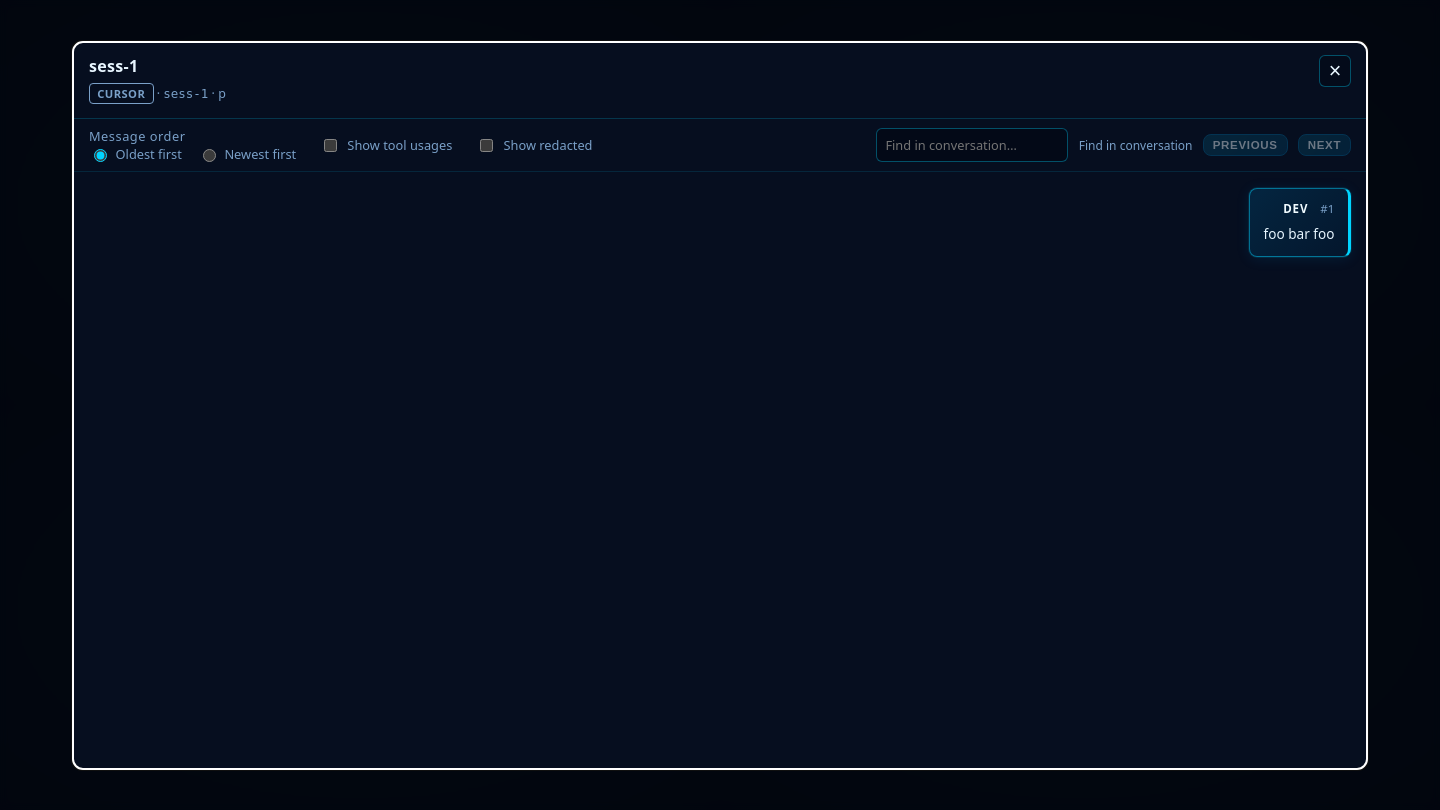
Test: ConversationModal in-modal find › wraps next and previous navigation
expect the text "foo bar foo" is shown: met, box [1264, 224, 1334, 244]
Type "foo" into the search field labelled "Find in conversation" at (972, 145), box [876, 128, 1068, 162]
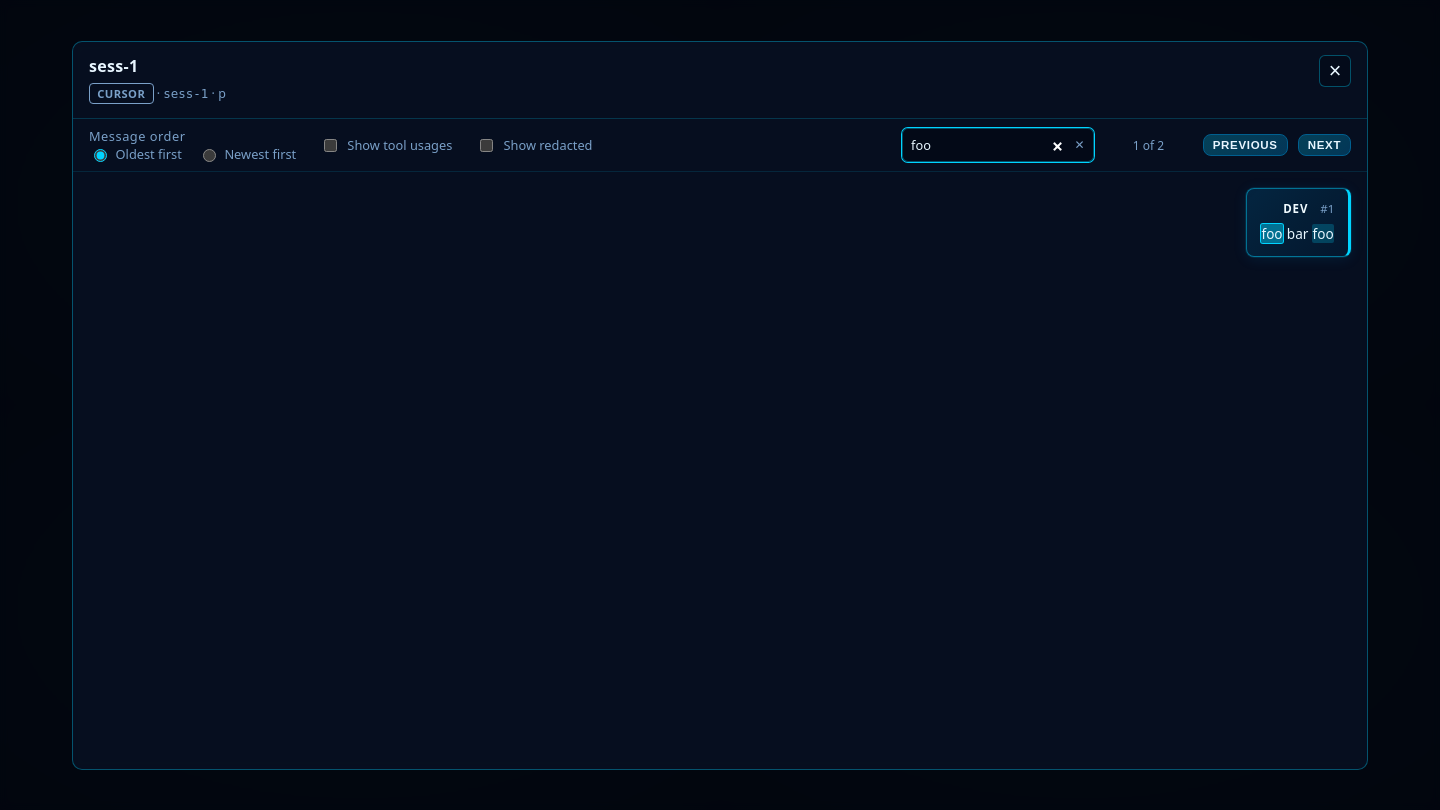
expect the text "1 of 2" is shown: met, box [1133, 137, 1164, 154]
Click the button with aria-label "Next match" at (1324, 145), box [1298, 134, 1351, 156]
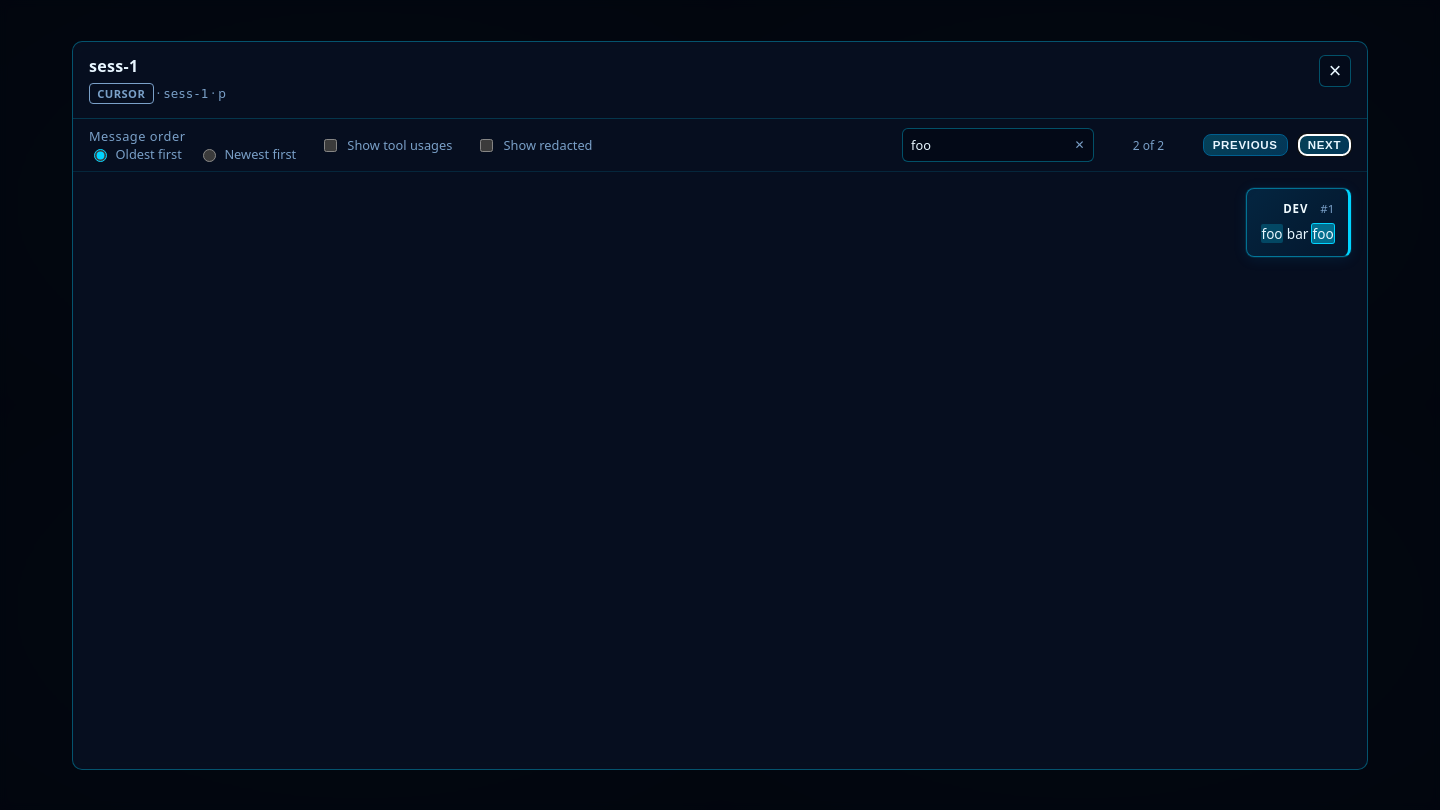
expect the text "2 of 2" is shown: met, box [1133, 137, 1164, 154]
Click the button with aria-label "Next match" at (1324, 145), box [1298, 134, 1351, 156]
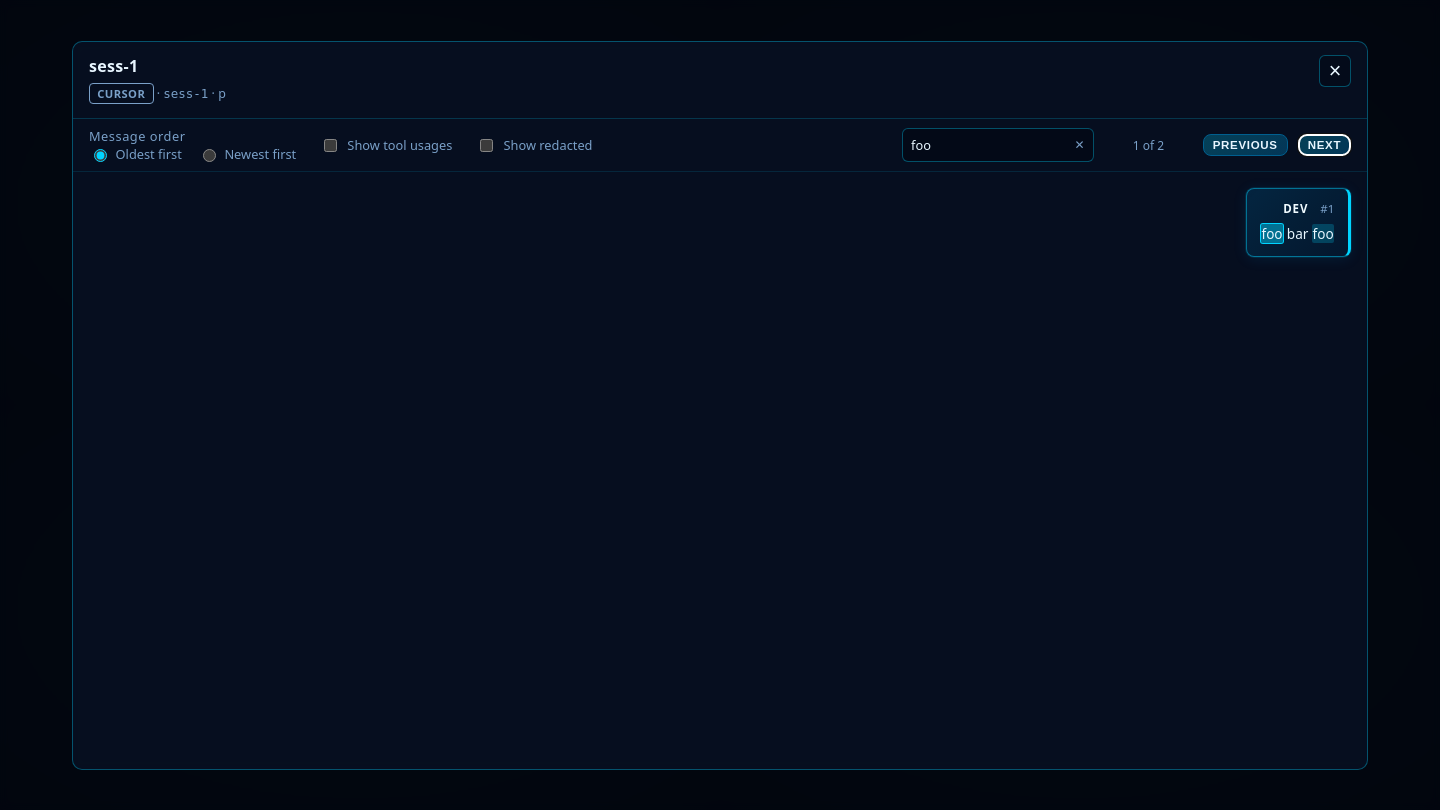
expect the text "1 of 2" is shown: met, box [1133, 137, 1164, 154]
Click the button with aria-label "Previous match" at (1245, 145), box [1203, 134, 1288, 156]
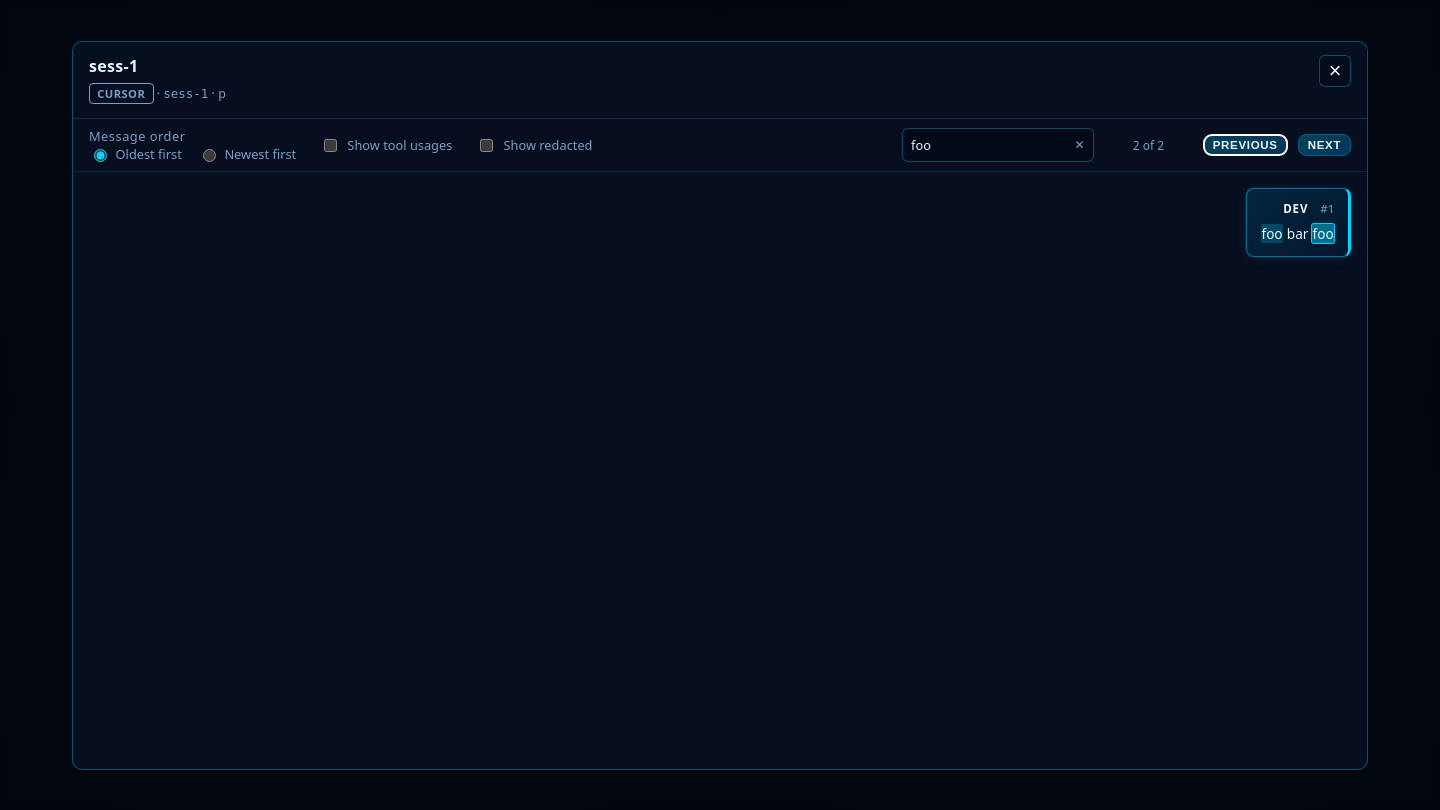
expect the text "2 of 2" is shown: met, box [1133, 137, 1164, 154]
